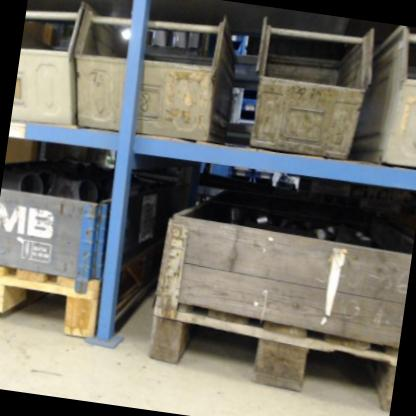pallet: (140, 292, 401, 413), (0, 261, 104, 342)
